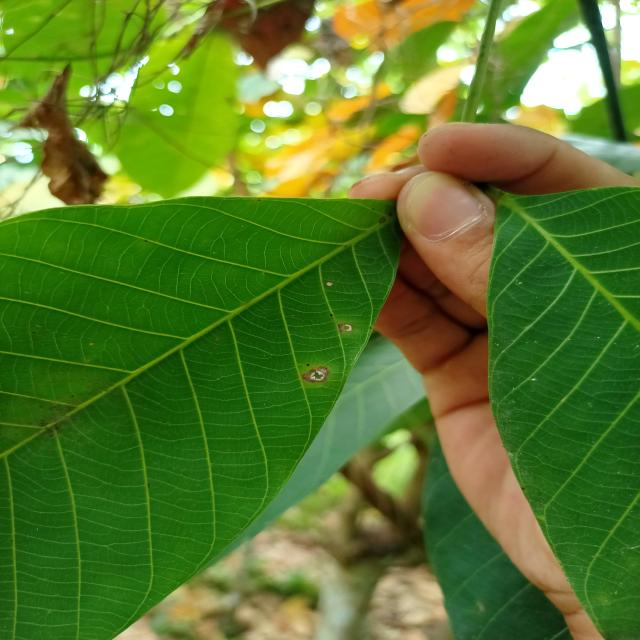Colletotrichum: (302, 367, 328, 383), (338, 324, 352, 332), (326, 282, 334, 286), (306, 364, 310, 366), (330, 314, 333, 316)
